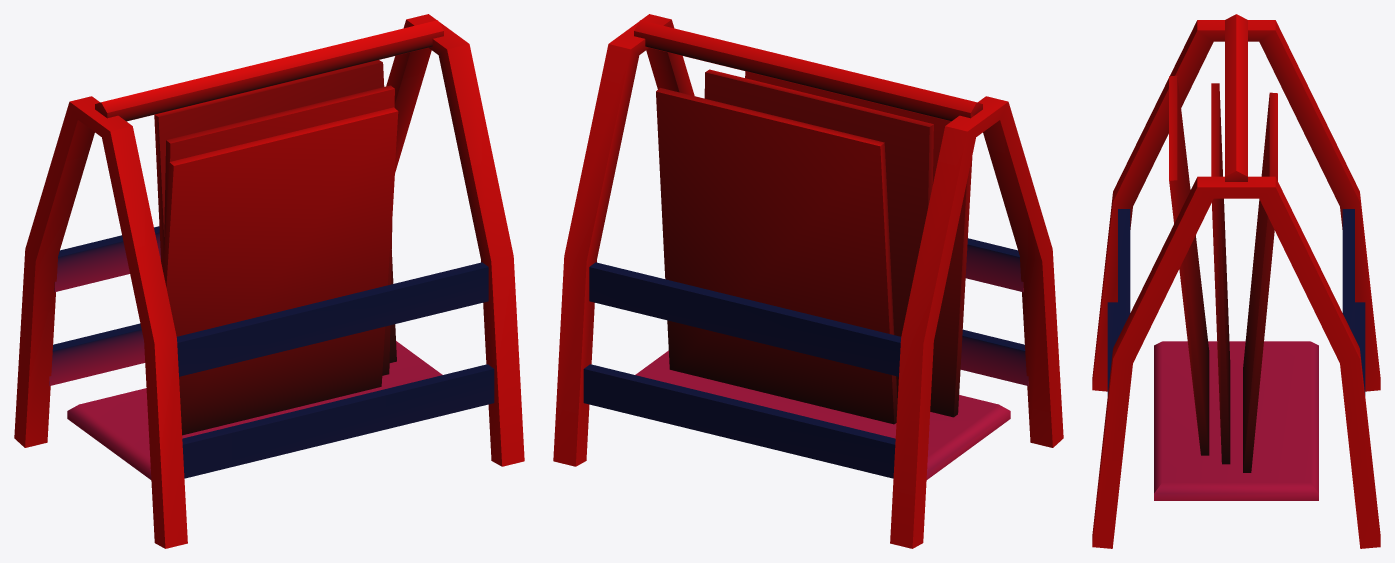
The model's file is CI_Living_MagazineRack.glb.
3 views of the same model, side by side, from view 1: azimuth 30°, elevation 25°; view 2: azimuth 150°, elevation 25°; view 3: azimuth 270°, elevation 25° (orthographic). The views are drawn at different scales.
Visible parts, largest first — view 1: CI_Living_MagazineRack; view 2: CI_Living_MagazineRack; view 3: CI_Living_MagazineRack.
Boxes of the visible parts, box(x1,y1,x2,y2) form: CI_Living_MagazineRack: box(14, 14, 524, 548); CI_Living_MagazineRack: box(553, 14, 1063, 548); CI_Living_MagazineRack: box(1092, 14, 1380, 548).
Size of the model in its own units: 0.384 by 0.399 by 0.2799.
